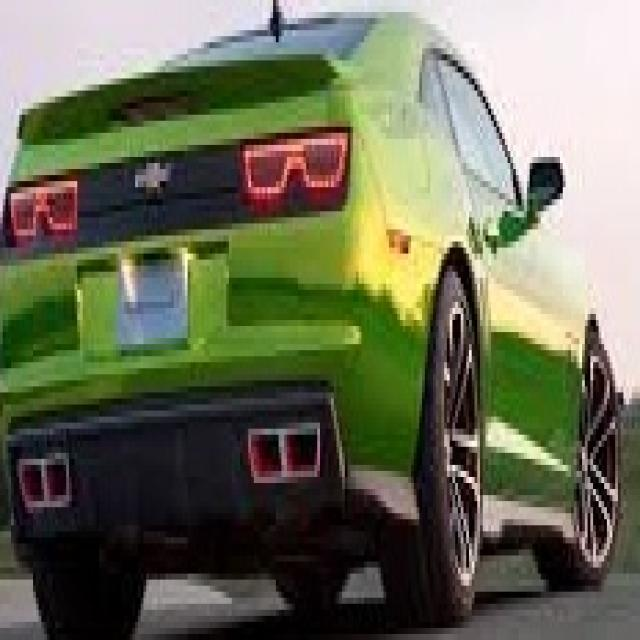green: (0, 12, 618, 610)
